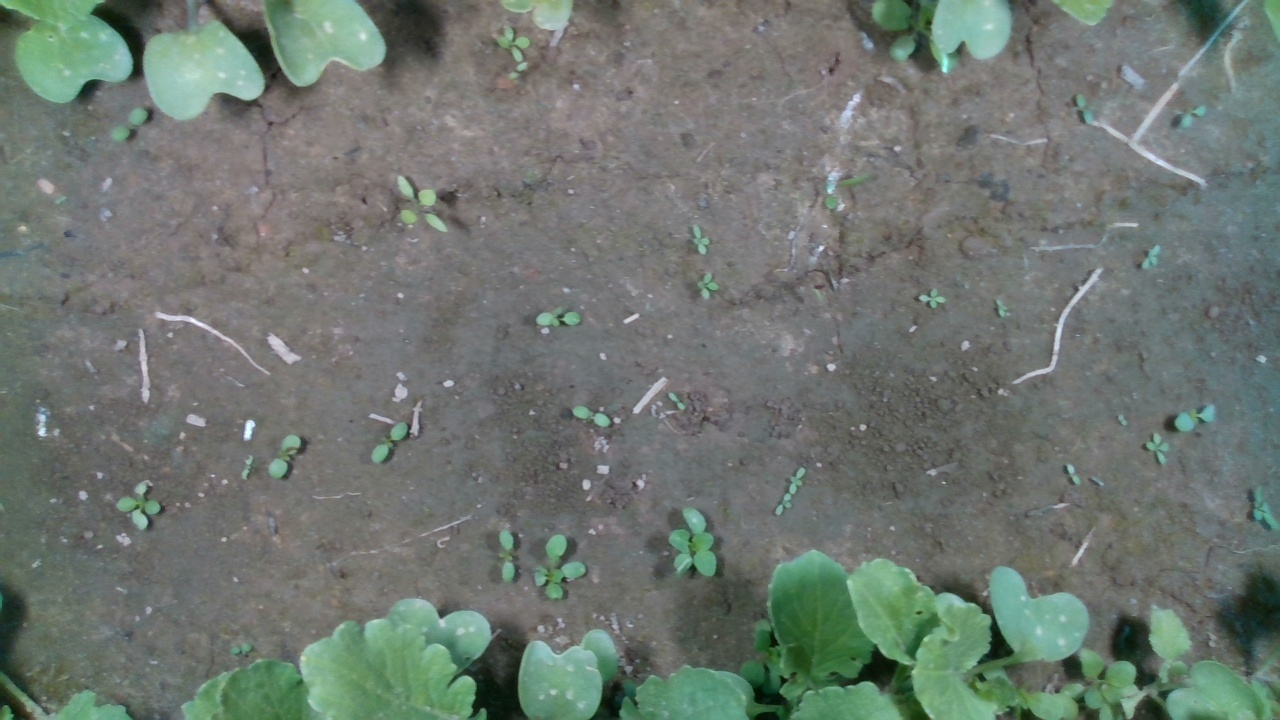weed: (396, 174, 448, 233), (114, 481, 164, 533), (370, 420, 408, 464), (268, 434, 300, 481), (110, 105, 148, 142), (496, 24, 530, 63), (1174, 402, 1217, 432), (534, 306, 581, 328), (570, 404, 612, 428), (498, 527, 516, 583), (913, 285, 947, 309), (1144, 432, 1168, 465), (1138, 243, 1162, 273), (689, 223, 711, 255), (1075, 92, 1095, 127), (697, 271, 720, 301), (666, 391, 687, 413), (240, 454, 254, 481), (1067, 462, 1081, 486), (1116, 412, 1128, 429)
